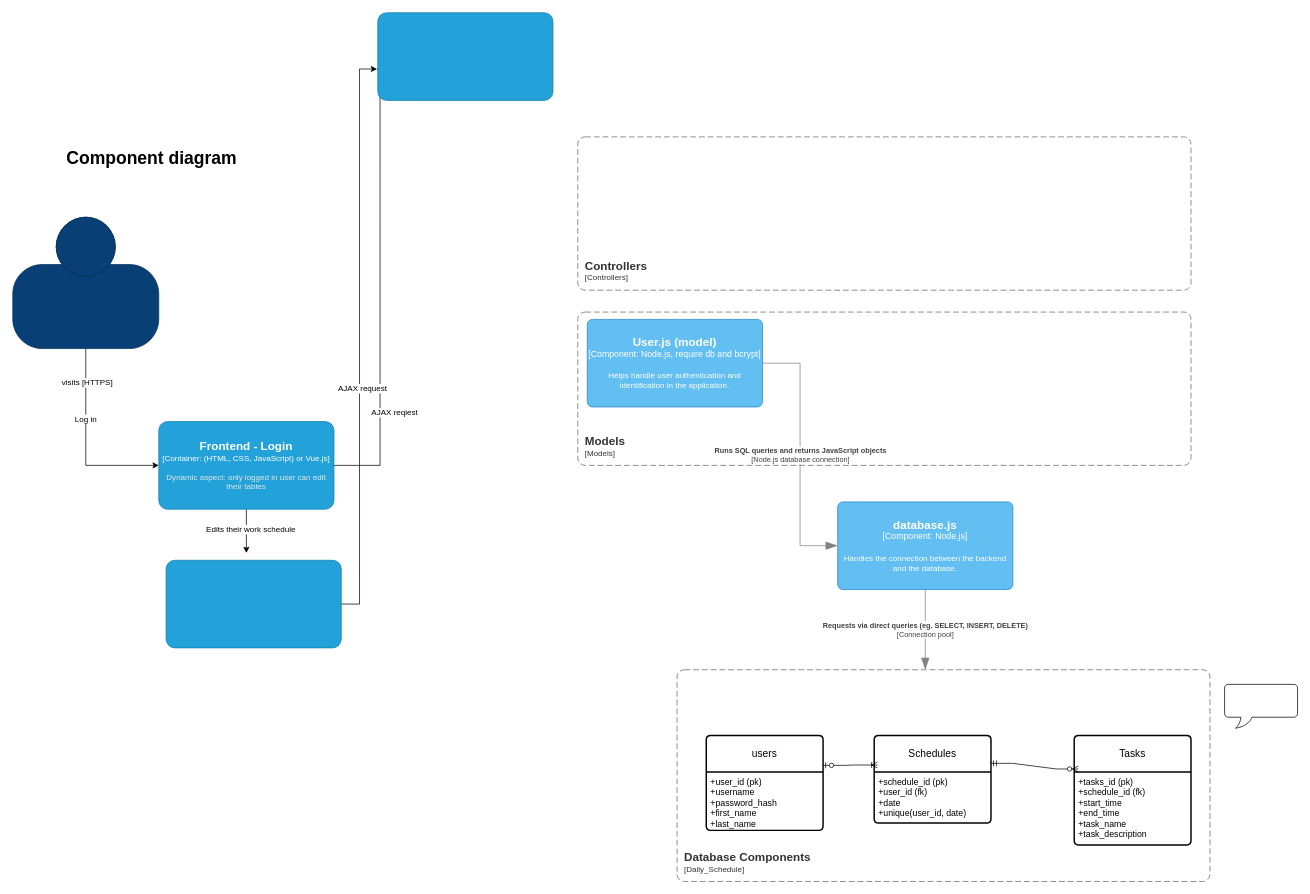
This 1310x894 diagram has some shape labels left out. The centre of each missing label's shape, as x and y in pixels:
Backend [Container: Node.js with Express.js] Serves requests from the frontend: [465,56]
Follows first and third normal form.: [1261,706]
Frontend: Edit tables [Container: DataTables.js] Make AJAX request to backend: [253,604]
Work schedule user [Person] User who schedules in his work: [85,282]
